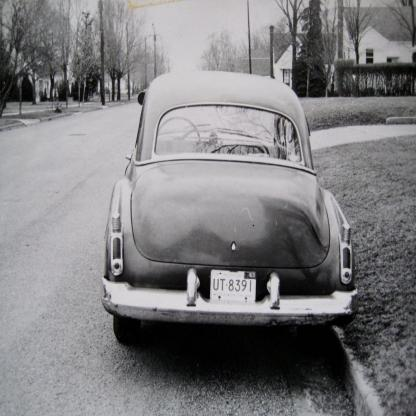Car: (104, 87, 355, 349)
